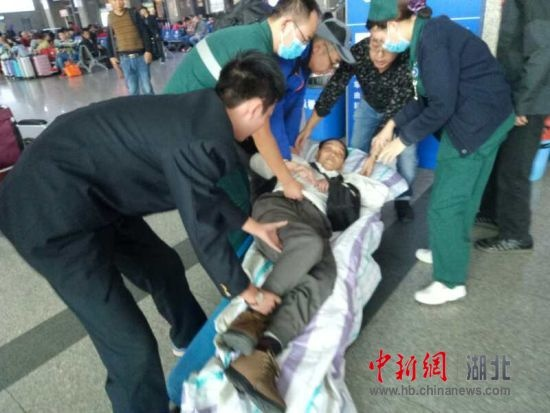falling: (188, 121, 359, 413)
